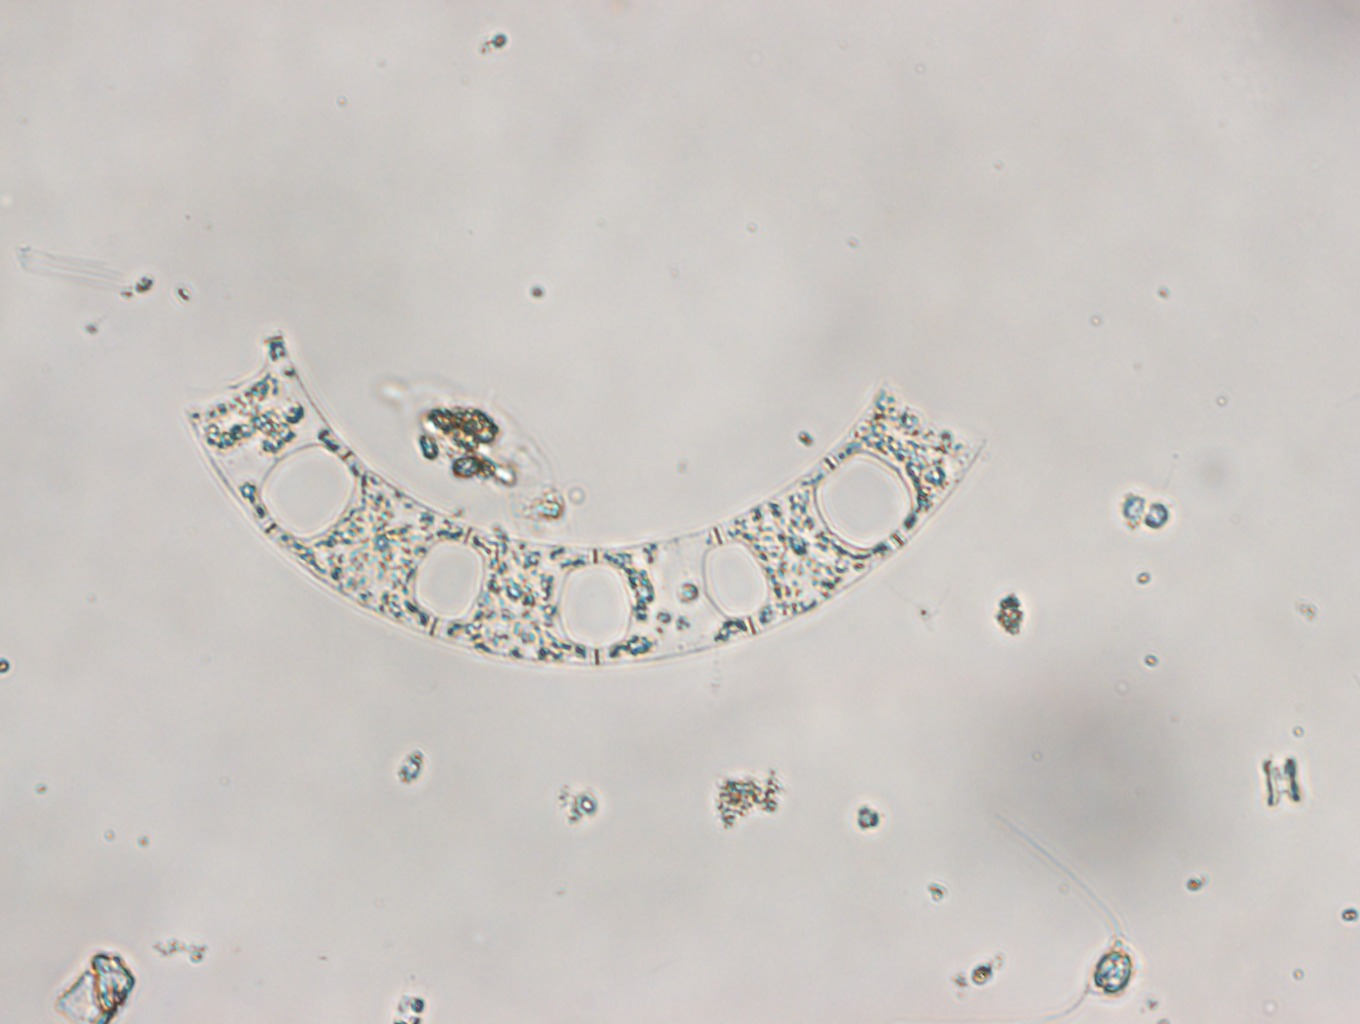eucampia: (181, 327, 991, 668)
